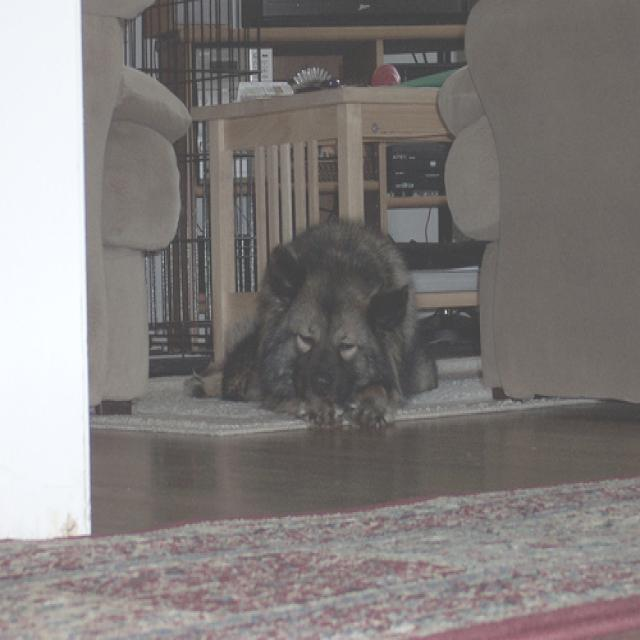Dog: (188, 111, 640, 514)
